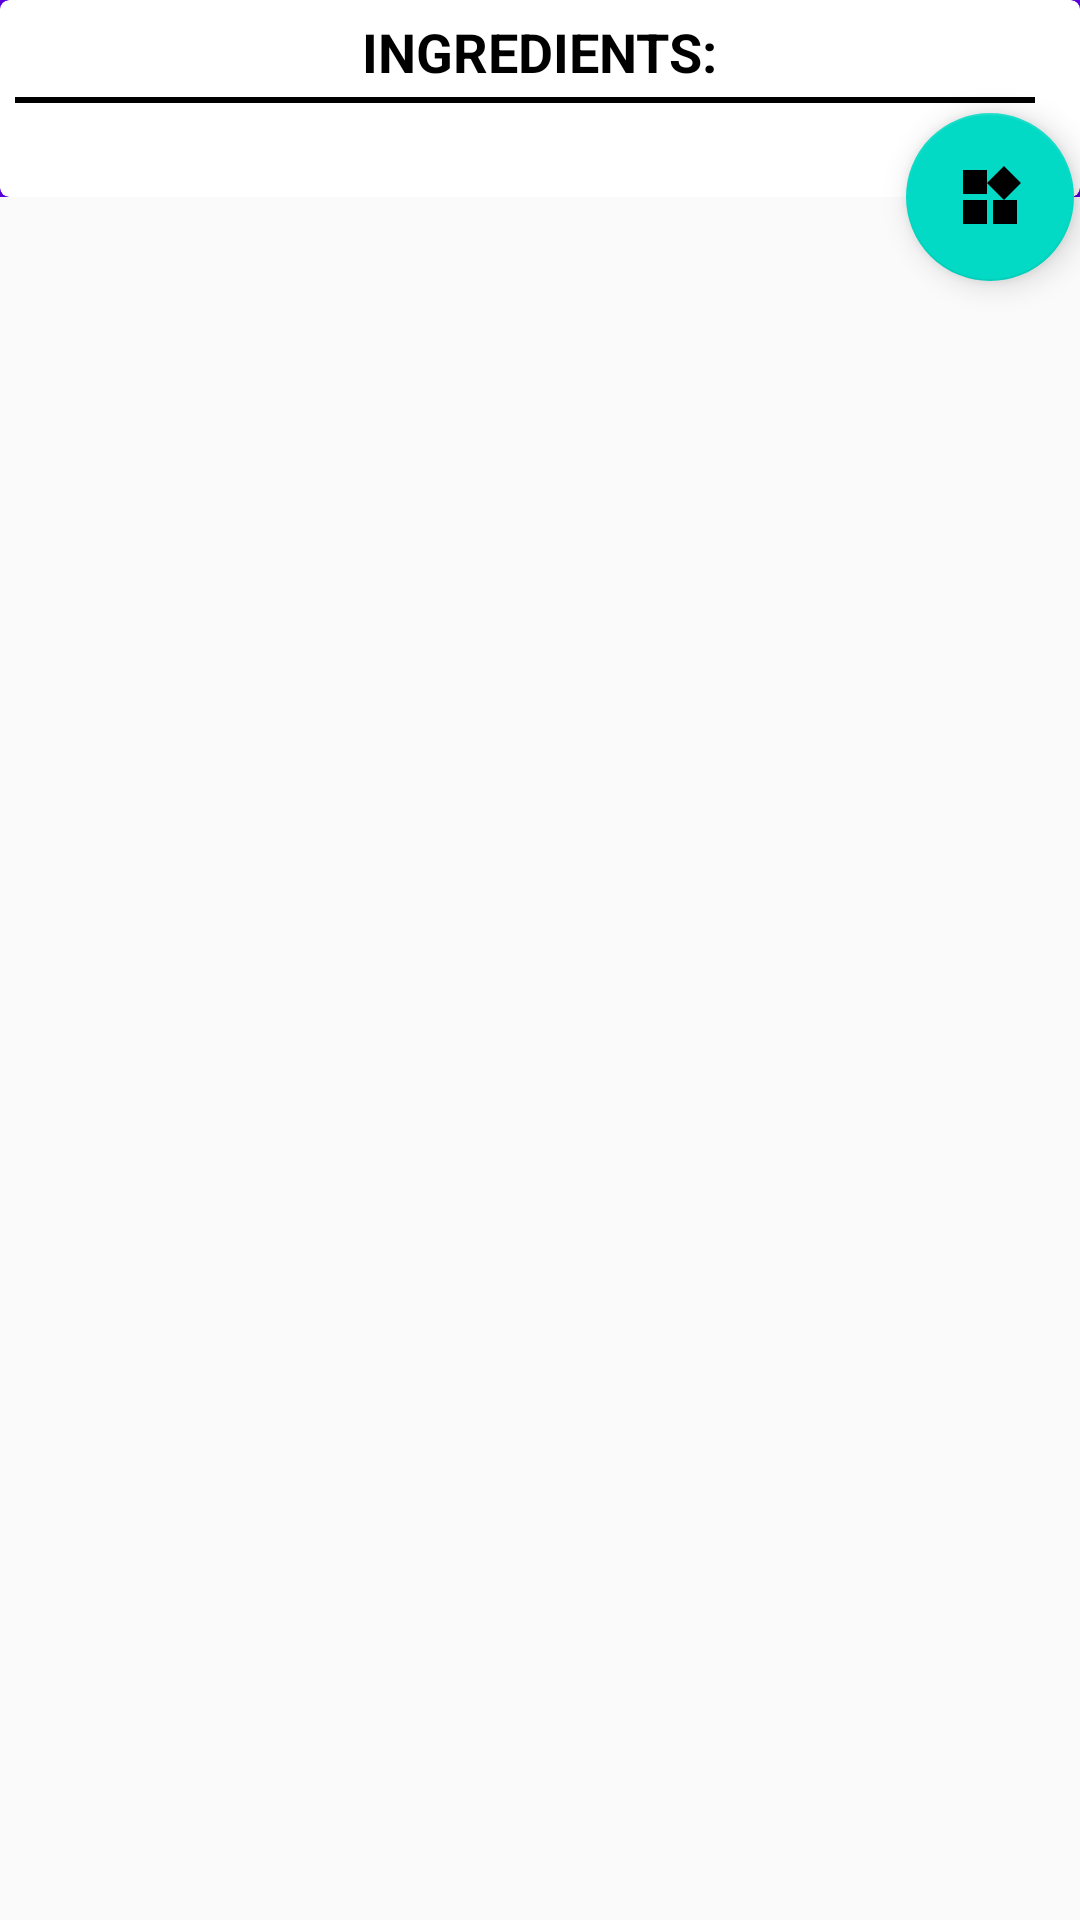

Locate icon controls on the screen. Image size 1080x1920, boxes as bbox(x1, y1, x2, y2).
widgets: bbox(906, 113, 1074, 281)
